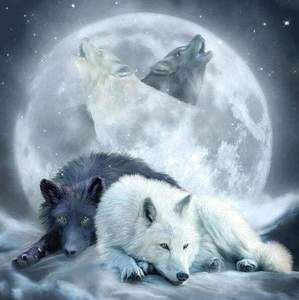wolf: (102, 179, 290, 288), (22, 152, 102, 262), (77, 35, 141, 141), (148, 31, 216, 105)
